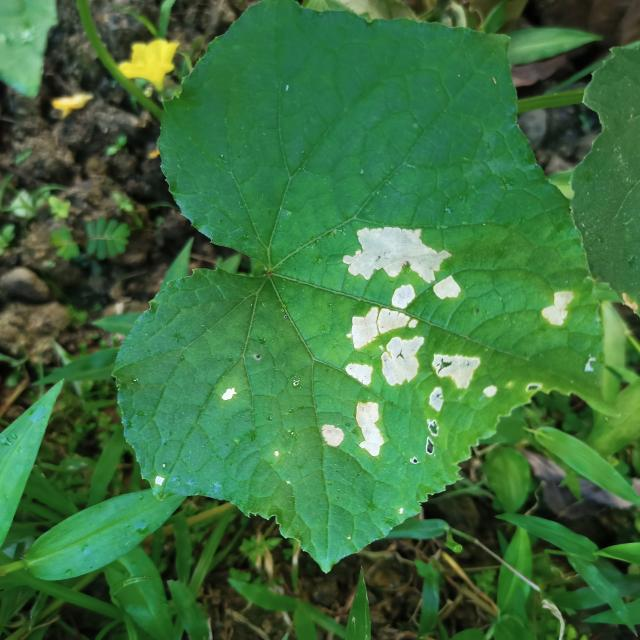disease_cucumber: (318, 224, 480, 470), (532, 286, 582, 339), (214, 384, 240, 404)
